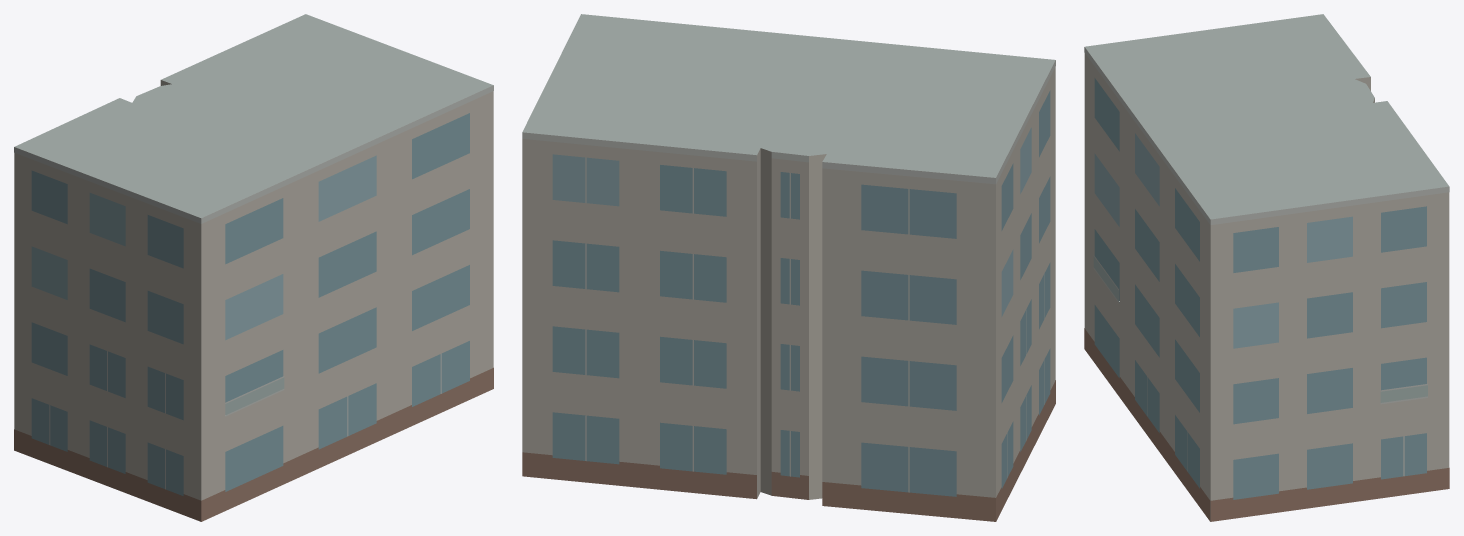
The model's file is survey-upis-32993470.glb.
3 renders of one model, left to right at view 1: azimuth 30°, elevation 25°; view 2: azimuth 150°, elevation 25°; view 3: azimuth 270°, elevation 25°, orthographic. The views are drawn at different scales.
Parts seen in each view (by area): view 1: survey-upis-32993470.tmp; view 2: survey-upis-32993470.tmp; view 3: survey-upis-32993470.tmp.
Part boxes in pixels (x1,y1,x2,y2): survey-upis-32993470.tmp: [14, 14, 493, 521]; survey-upis-32993470.tmp: [522, 14, 1055, 521]; survey-upis-32993470.tmp: [1084, 14, 1449, 521].
Size of the model in its own units: 18.96 by 13 by 14.23.
